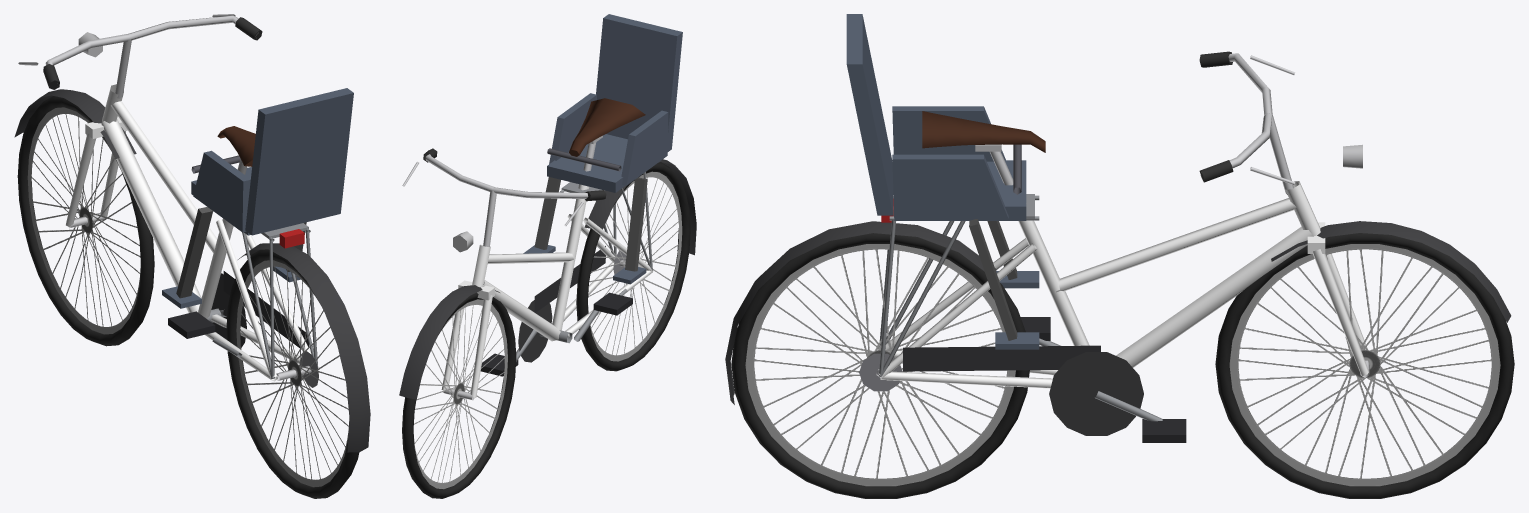
The model's file is kidseat.glb.
3 renders of one model, left to right at view 1: azimuth 30°, elevation 25°; view 2: azimuth 150°, elevation 25°; view 3: azimuth 270°, elevation 25°, orthographic. The views are drawn at different scales.
Parts seen in each view (by area): view 1: bike; view 2: bike; view 3: bike.
Part boxes in pixels (<box>): bike: <box>14,14,370,498</box>; bike: <box>399,14,696,498</box>; bike: <box>725,14,1514,498</box>.
Size of the model in its own units: 0.6485 by 1.15 by 1.79.
1 material, 1 textured.
